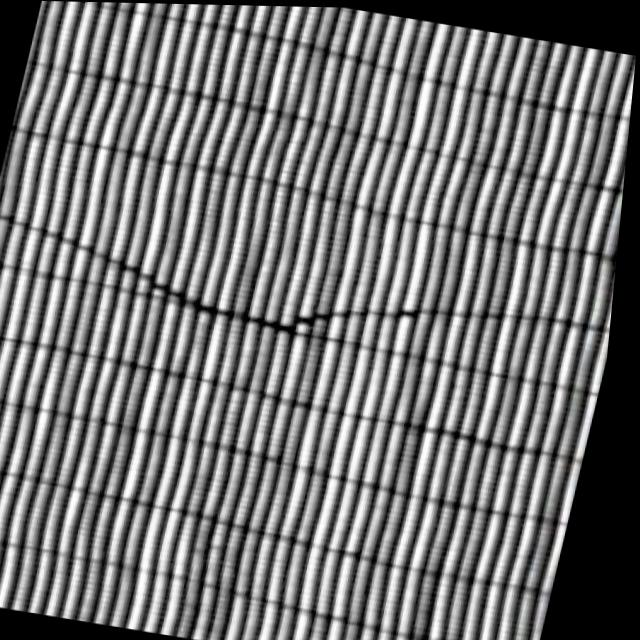Stitch: (53, 213, 525, 388)
